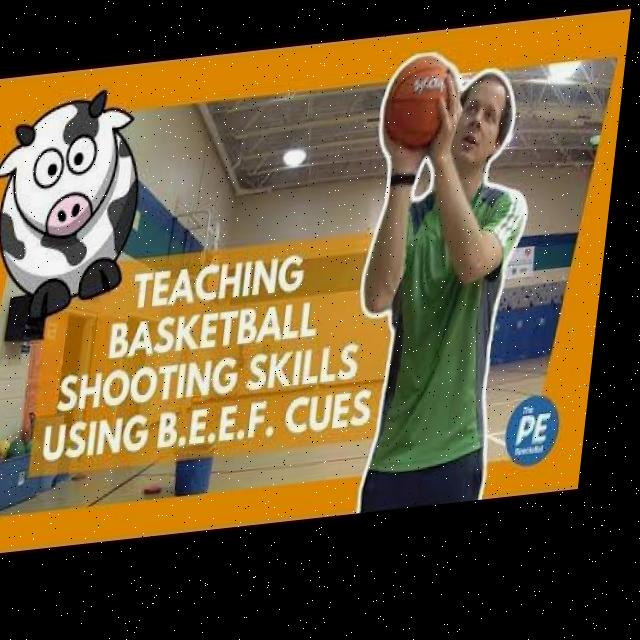Basketball: (379, 52, 464, 154), (7, 436, 27, 458), (0, 438, 12, 461), (26, 438, 42, 454), (0, 449, 4, 463)
